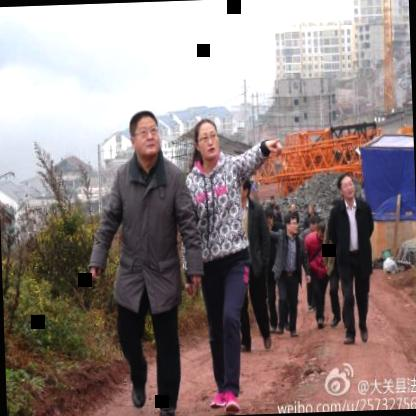head: (125, 104, 165, 168), (192, 114, 224, 168), (337, 170, 359, 198), (283, 210, 299, 238), (315, 221, 329, 242)
